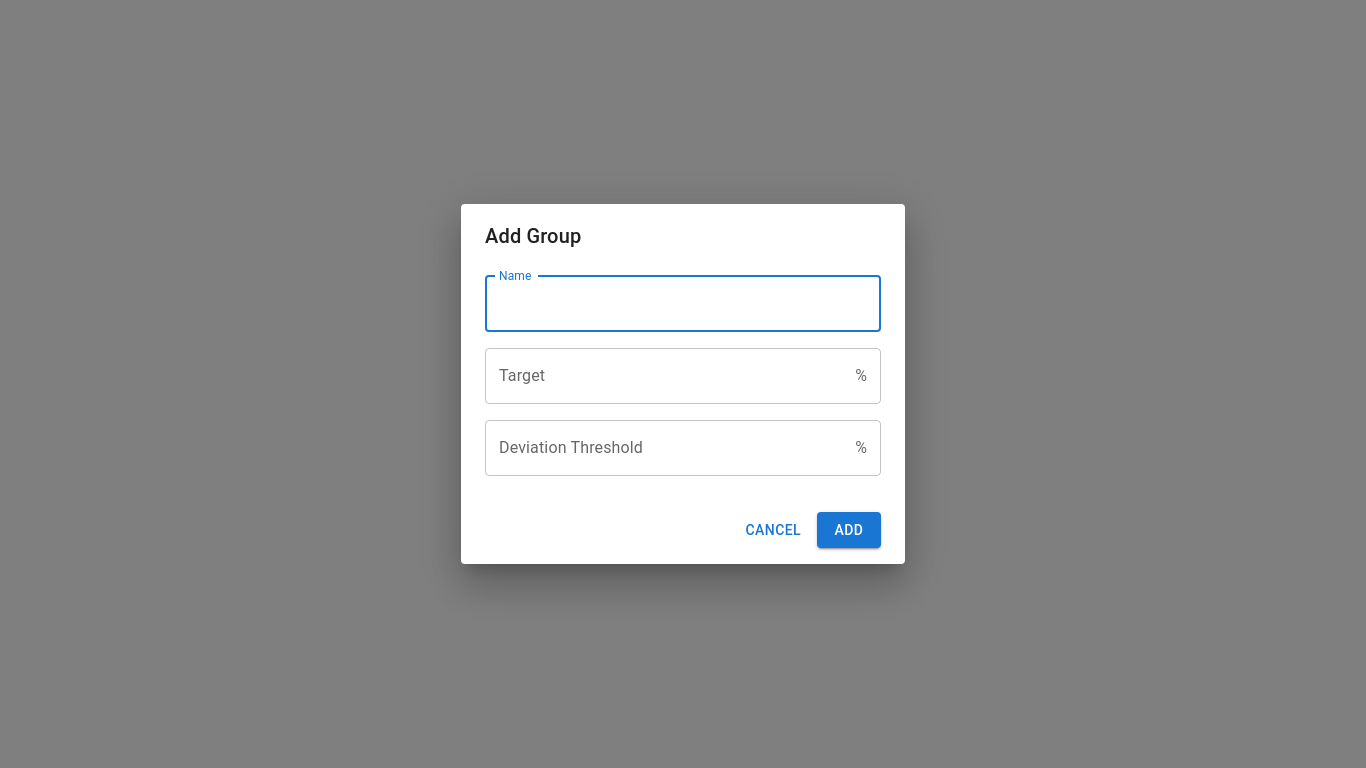
GroupDialog › shows validation error for target percentage of 0
Type "Stocks" into the field labelled "Name" at (683, 304), box x1=485 y1=276 x2=881 y2=332
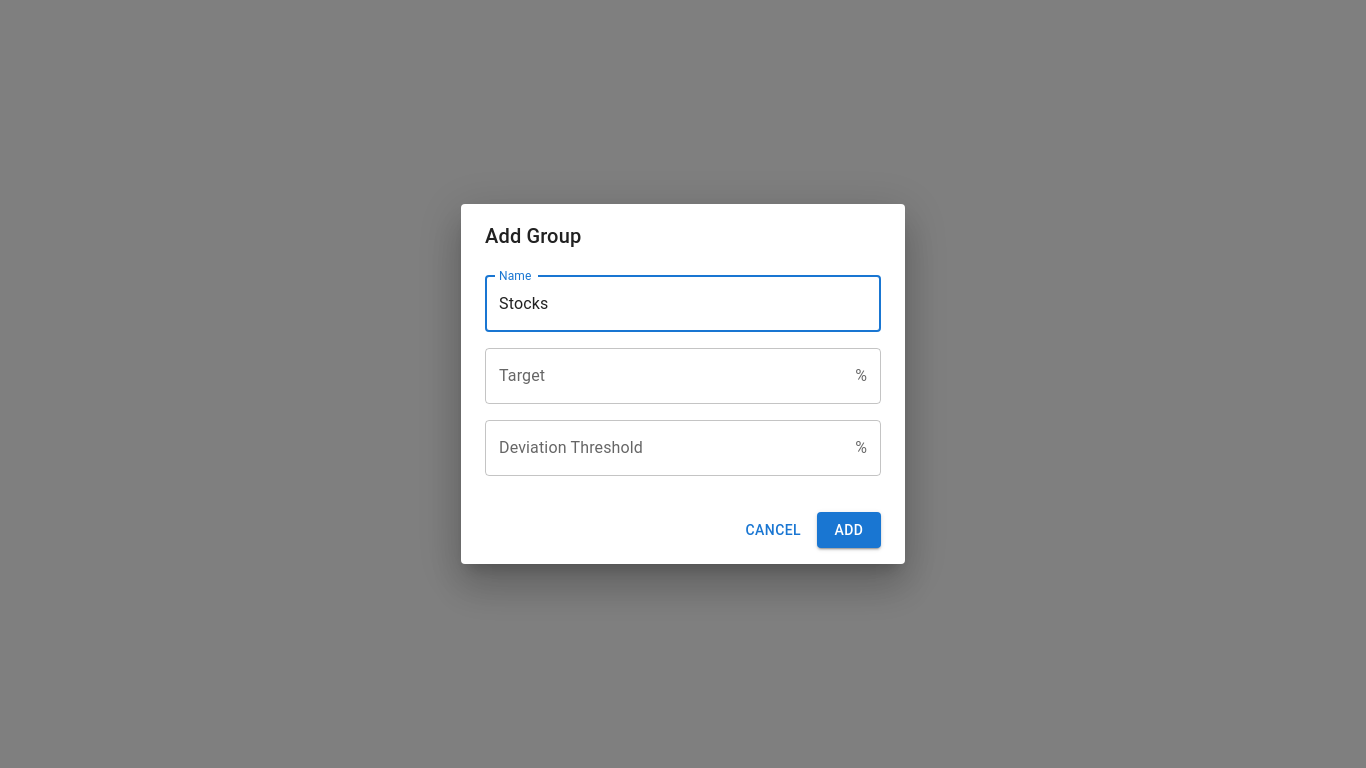
Type "0" into the number field labelled "Target" at (666, 376), box x1=485 y1=348 x2=847 y2=404
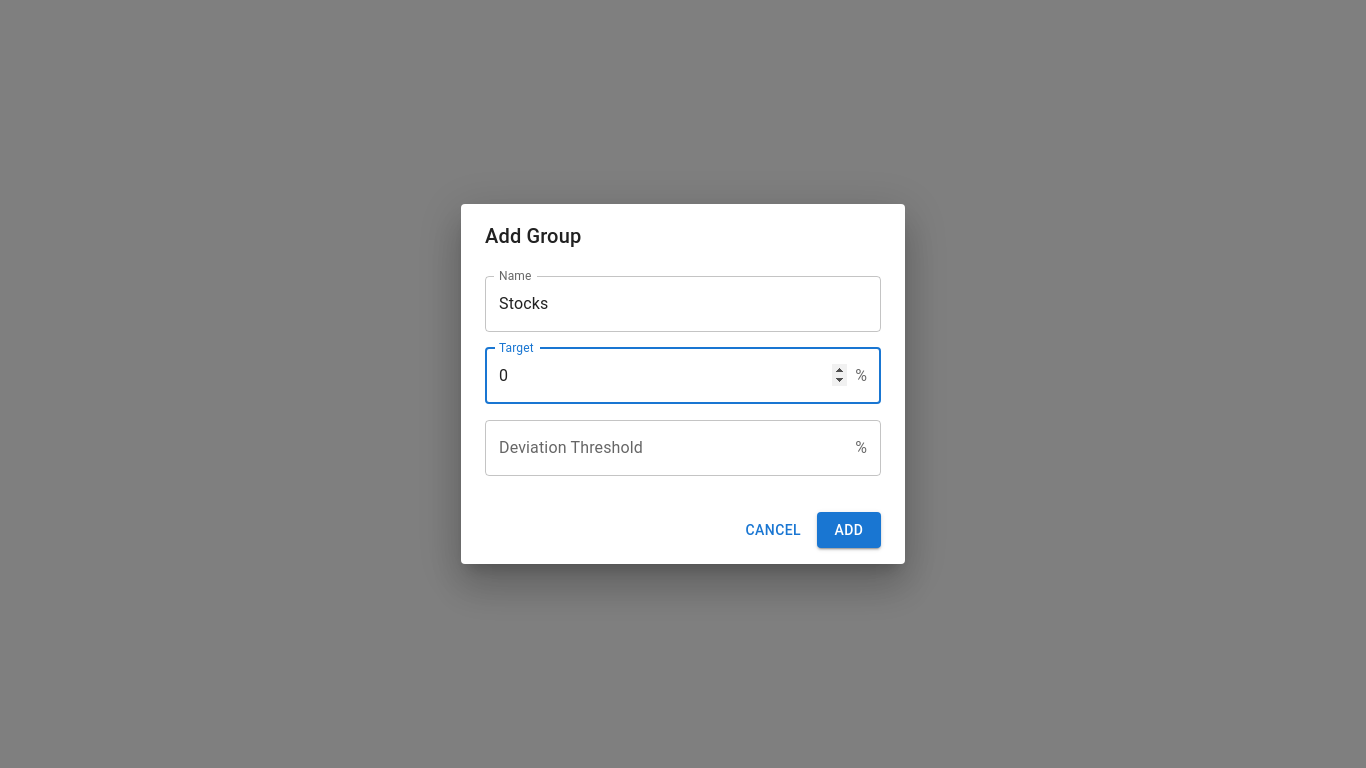
Type "5" into the number field labelled "Deviation Threshold" at (666, 448), box x1=485 y1=420 x2=847 y2=476
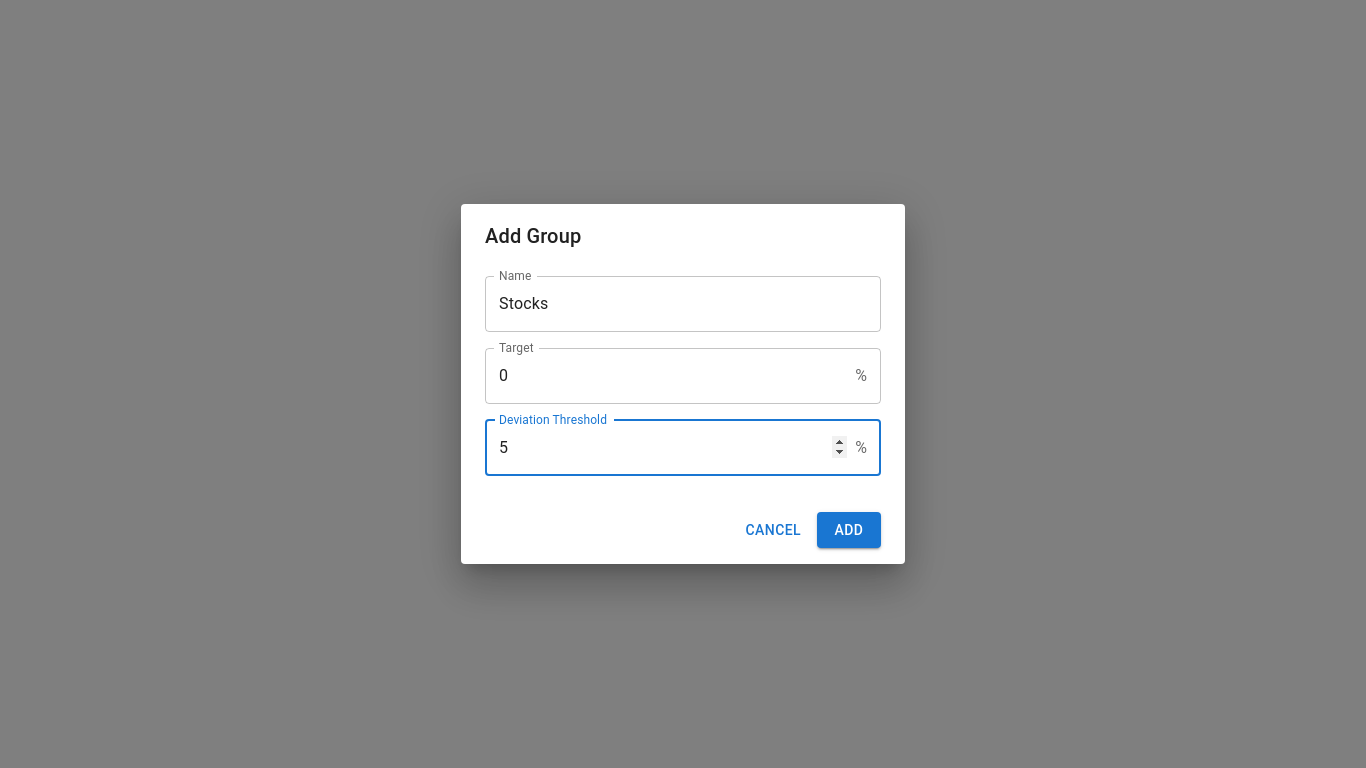
Click the button "Add" at (849, 530), box x1=817 y1=512 x2=881 y2=548
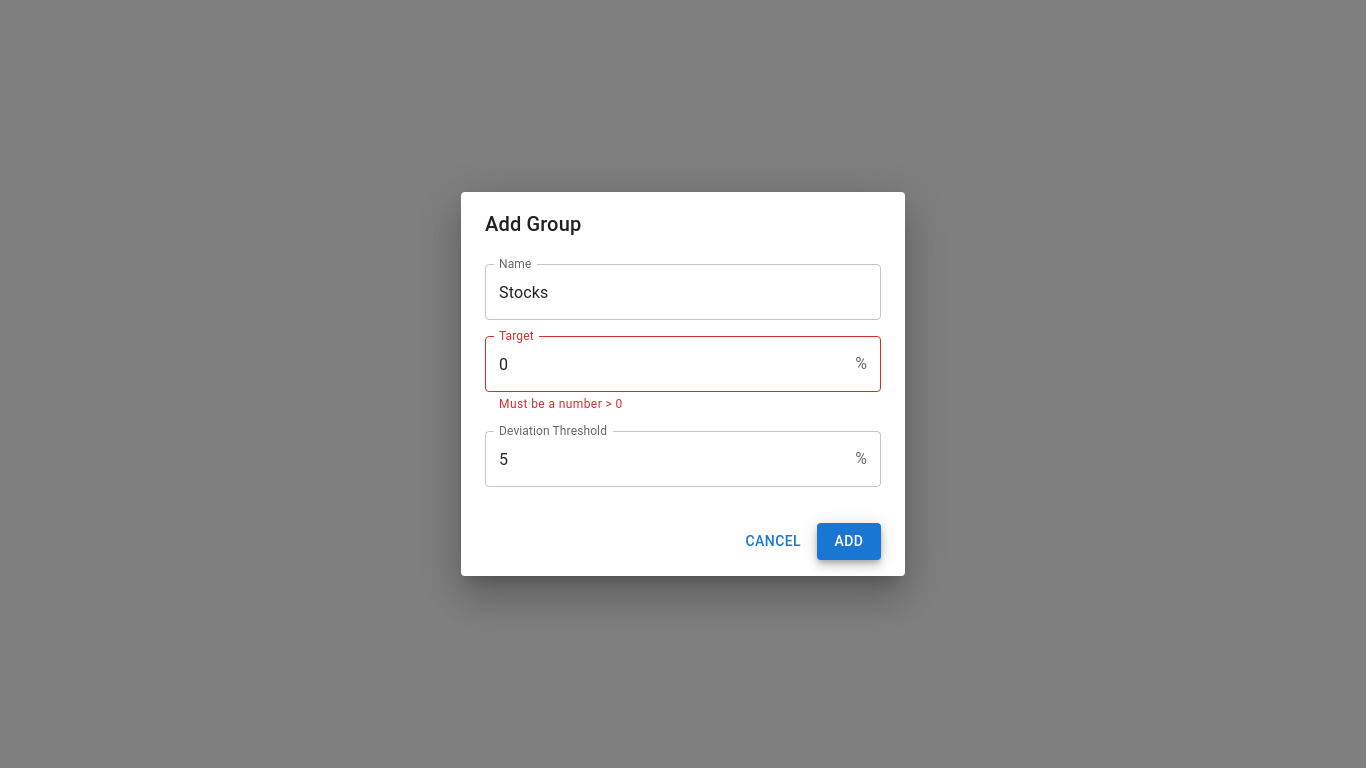
Now the text "Must be a number > 0" is shown, box x1=499 y1=397 x2=623 y2=411
